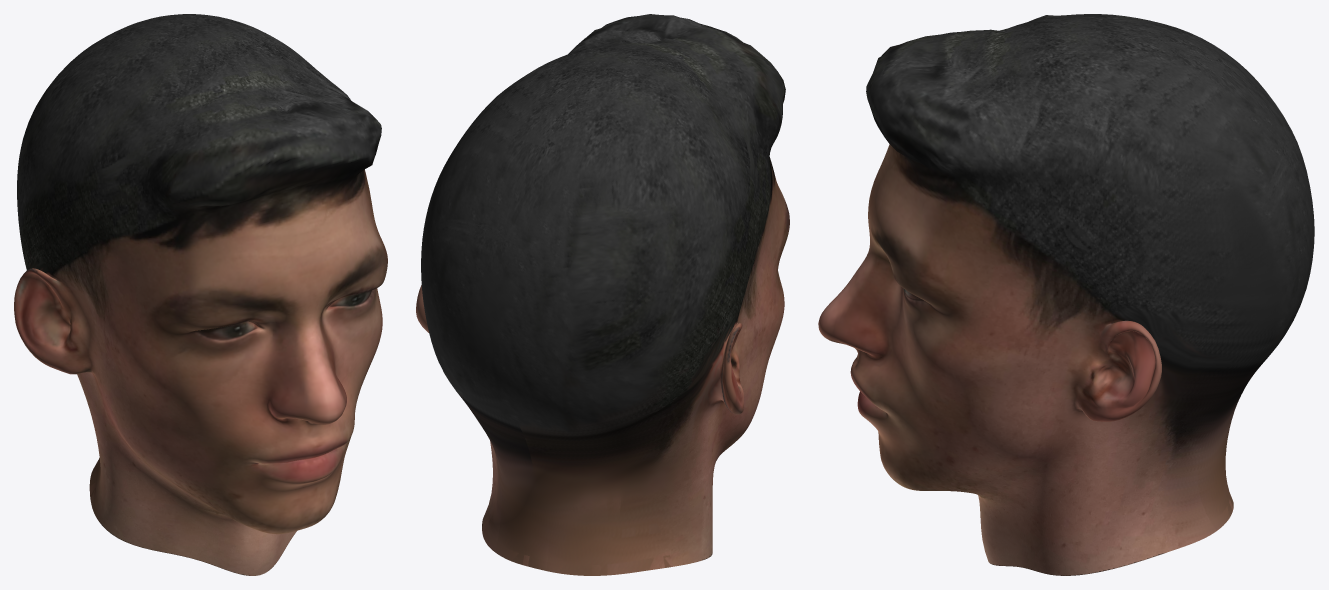
Rendered from MyHead2Comp.glb.
The picture shows the model from 3 angles, left to right: view 1: azimuth 30°, elevation 25°; view 2: azimuth 150°, elevation 25°; view 3: azimuth 270°, elevation 25°; orthographic projection. The views are drawn at different scales.
Visible parts, largest first — view 1: FaceBuilderHead; view 2: FaceBuilderHead; view 3: FaceBuilderHead.
Part boxes in pixels (x1,y1,x2,y2): FaceBuilderHead: (14, 14, 387, 575); FaceBuilderHead: (416, 14, 789, 575); FaceBuilderHead: (818, 14, 1314, 575).
Size of the model in its own units: 1.6 by 2.42 by 2.06.
1 material, 1 textured.
